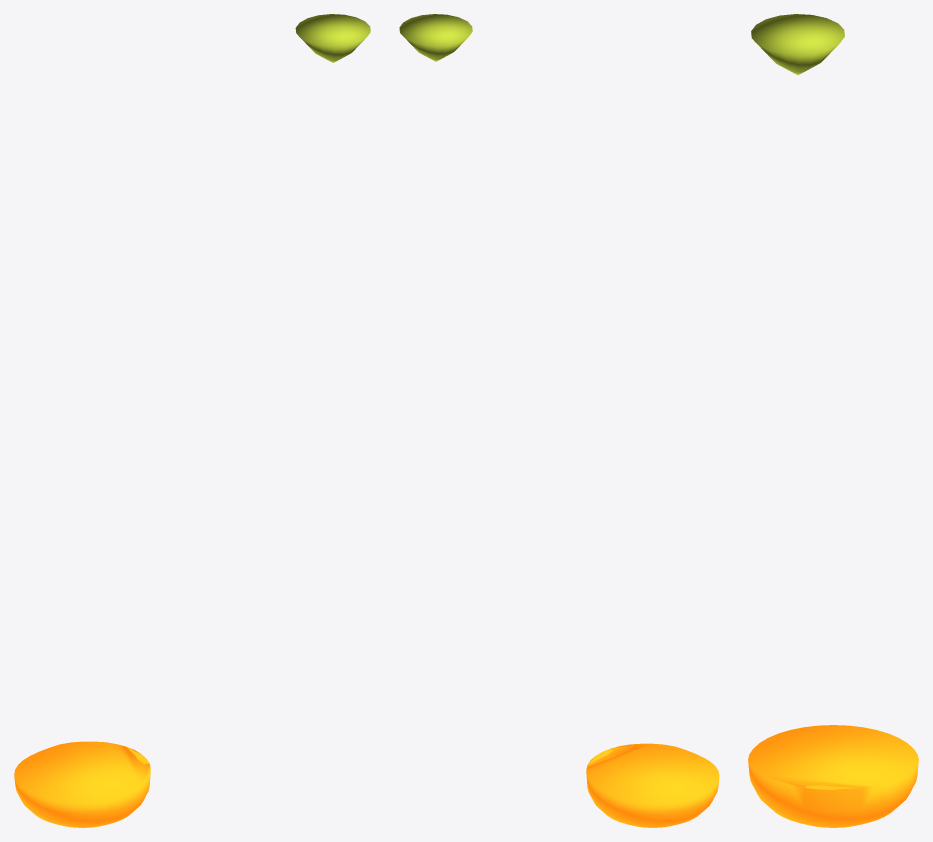
The model's file is POTIONS.fbx.
The picture shows the model from 3 angles, left to right: view 1: azimuth 30°, elevation 25°; view 2: azimuth 150°, elevation 25°; view 3: azimuth 270°, elevation 25°; orthographic projection. The views are drawn at different scales.
Parts seen in each view (by area): view 1: round potion, small potion; view 2: round potion, small potion; view 3: round potion, small potion.
Part boxes in pixels (x1,y1,x2,y2): round potion: (14, 741, 150, 827); small potion: (295, 14, 370, 62); round potion: (586, 743, 719, 827); small potion: (399, 14, 472, 61); round potion: (748, 725, 918, 827); small potion: (751, 14, 844, 75).
Bounding box in the file's own units: 69.19 × 148 × 24.93.
